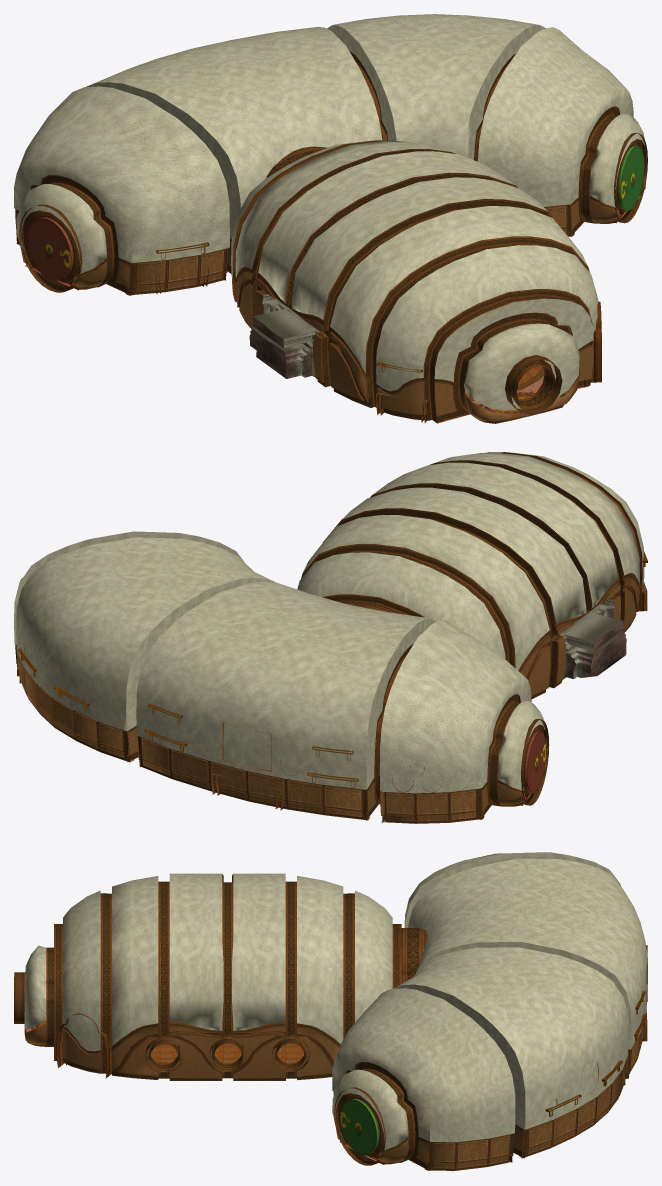
Rendered from BAGENDINTERIOR_BE_BAGEND.fbx.
3 renders of one model, top to bottom at view 1: azimuth 30°, elevation 25°; view 2: azimuth 150°, elevation 25°; view 3: azimuth 270°, elevation 25°, orthographic. The views are drawn at different scales.
Visible parts, largest first — view 1: BAGENDINTERIOR_BE_BAGEND; view 2: BAGENDINTERIOR_BE_BAGEND; view 3: BAGENDINTERIOR_BE_BAGEND.
Boxes of the visible parts, bbox=[...] form: BAGENDINTERIOR_BE_BAGEND: bbox=[14, 14, 647, 423]; BAGENDINTERIOR_BE_BAGEND: bbox=[14, 452, 647, 823]; BAGENDINTERIOR_BE_BAGEND: bbox=[14, 852, 647, 1171].
Size of the model in its own units: 118177 by 33307 by 130300.
40 materials, 40 textured.
